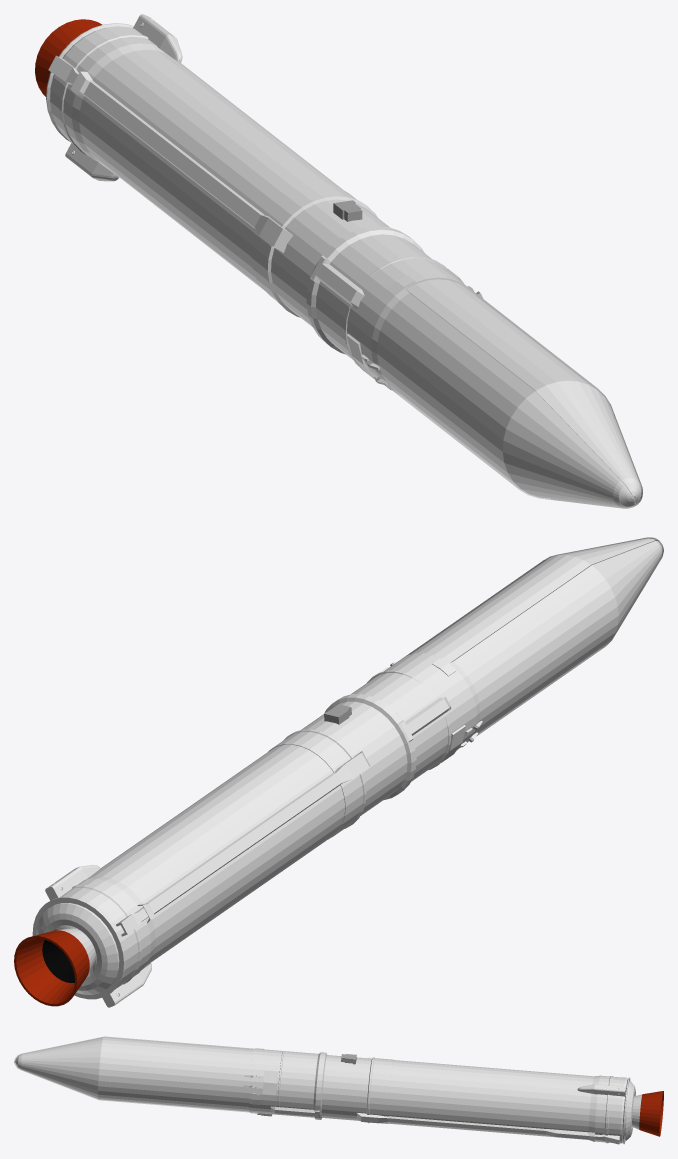
Rendered from rocket.glb.
3 renders of one model, top to bottom at view 1: azimuth 30°, elevation 25°; view 2: azimuth 150°, elevation 25°; view 3: azimuth 270°, elevation 25°, orthographic. The views are drawn at different scales.
Parts seen in each view (by area): view 1: 1st Stage, Fairing, Fairing.001, 2nd Stage; view 2: 1st Stage, Fairing, 2nd Stage, Fairing.001; view 3: 1st Stage, Fairing.001, 2nd Stage.
Boxes of the visible parts, <box> form: 1st Stage: <box>35,14,412,346</box>; Fairing: <box>371,288,635,508</box>; Fairing.001: <box>405,277,642,505</box>; 2nd Stage: <box>311,229,483,390</box>; 1st Stage: <box>14,694,416,1007</box>; Fairing: <box>449,540,663,742</box>; 2nd Stage: <box>351,653,482,781</box>; Fairing.001: <box>403,537,657,663</box>; 1st Stage: <box>315,1052,663,1144</box>; Fairing.001: <box>14,1036,254,1112</box>; 2nd Stage: <box>243,1048,320,1118</box>.
Size of the model in its own units: 0.7958 by 0.7018 by 4.81.
